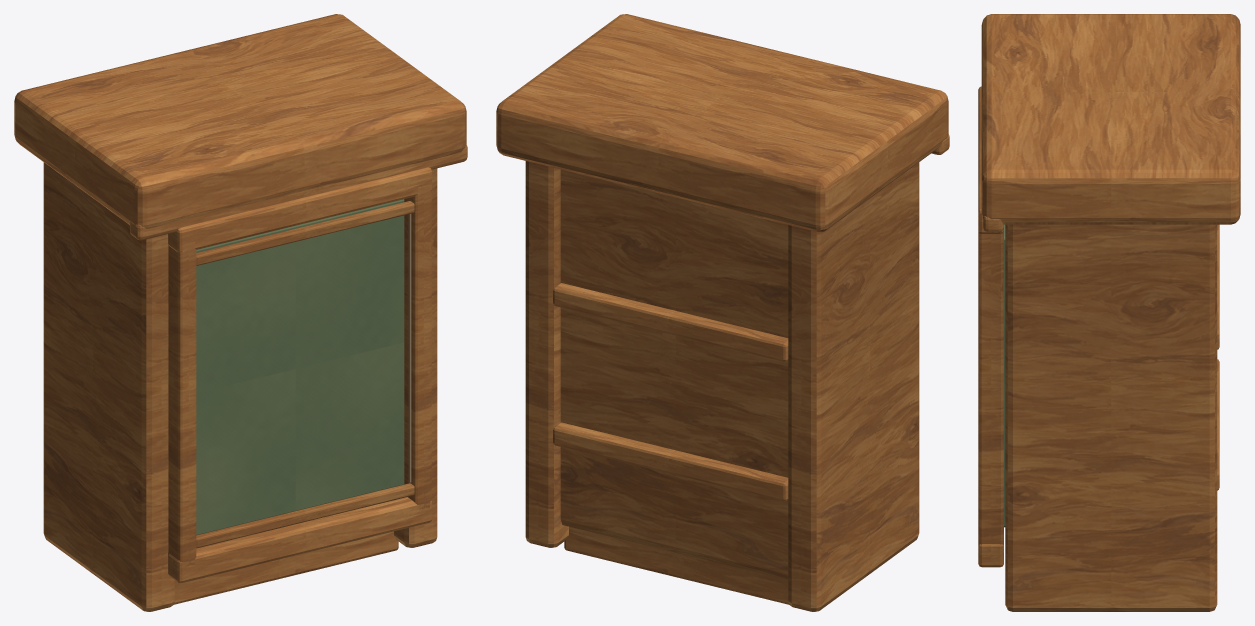
The model's file is WC_CAFE_Counter_End_A.glb.
3 views of the same model, side by side, from view 1: azimuth 30°, elevation 25°; view 2: azimuth 150°, elevation 25°; view 3: azimuth 270°, elevation 25° (orthographic).
Parts seen in each view (by area): view 1: WC_CAFE_Counter_End_A_PolishedRenderMesh; view 2: WC_CAFE_Counter_End_A_PolishedRenderMesh; view 3: WC_CAFE_Counter_End_A_PolishedRenderMesh.
Part boxes in pixels (bbox=[...]): WC_CAFE_Counter_End_A_PolishedRenderMesh: bbox=[14, 14, 467, 611]; WC_CAFE_Counter_End_A_PolishedRenderMesh: bbox=[496, 14, 949, 611]; WC_CAFE_Counter_End_A_PolishedRenderMesh: bbox=[978, 14, 1240, 611].
Bounding box in the file's own units: 0.82 × 1.08 × 0.5575.
Materials: 5 (4 with a texture image).
